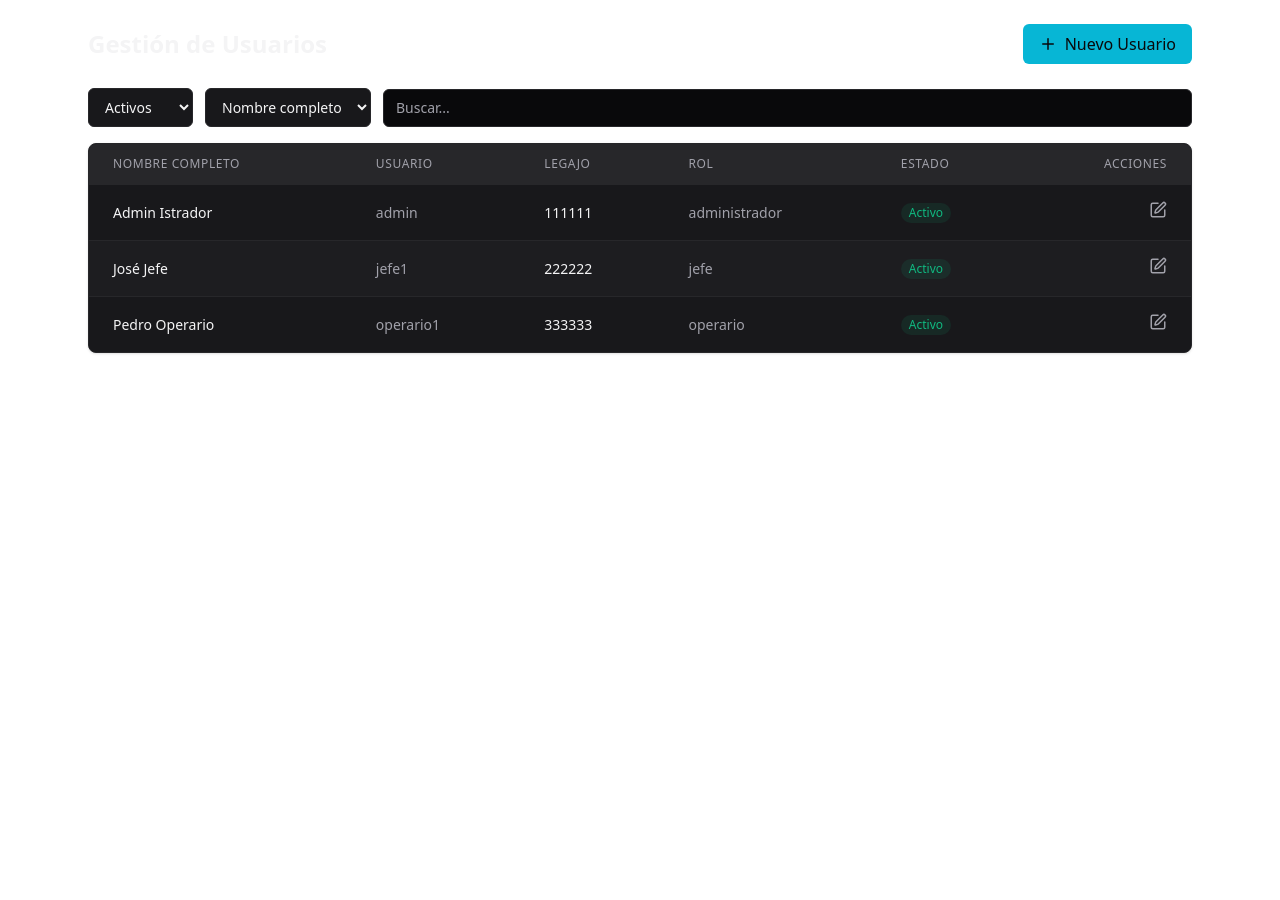
Scenario: UsuariosPage › "Eliminar Usuario" button is in modal footer for active usuario; NOT present in table row
This screenshot has width=1280, height=900.
expect the text "Admin Istrador" is shown: met, box [89,184,352,240]
expect the button "eliminar" is not shown: met
// Open modal for an active user
Click the button titled "Editar" in the row of "Admin Istrador" at (1158, 210), box [1149,201,1167,219]
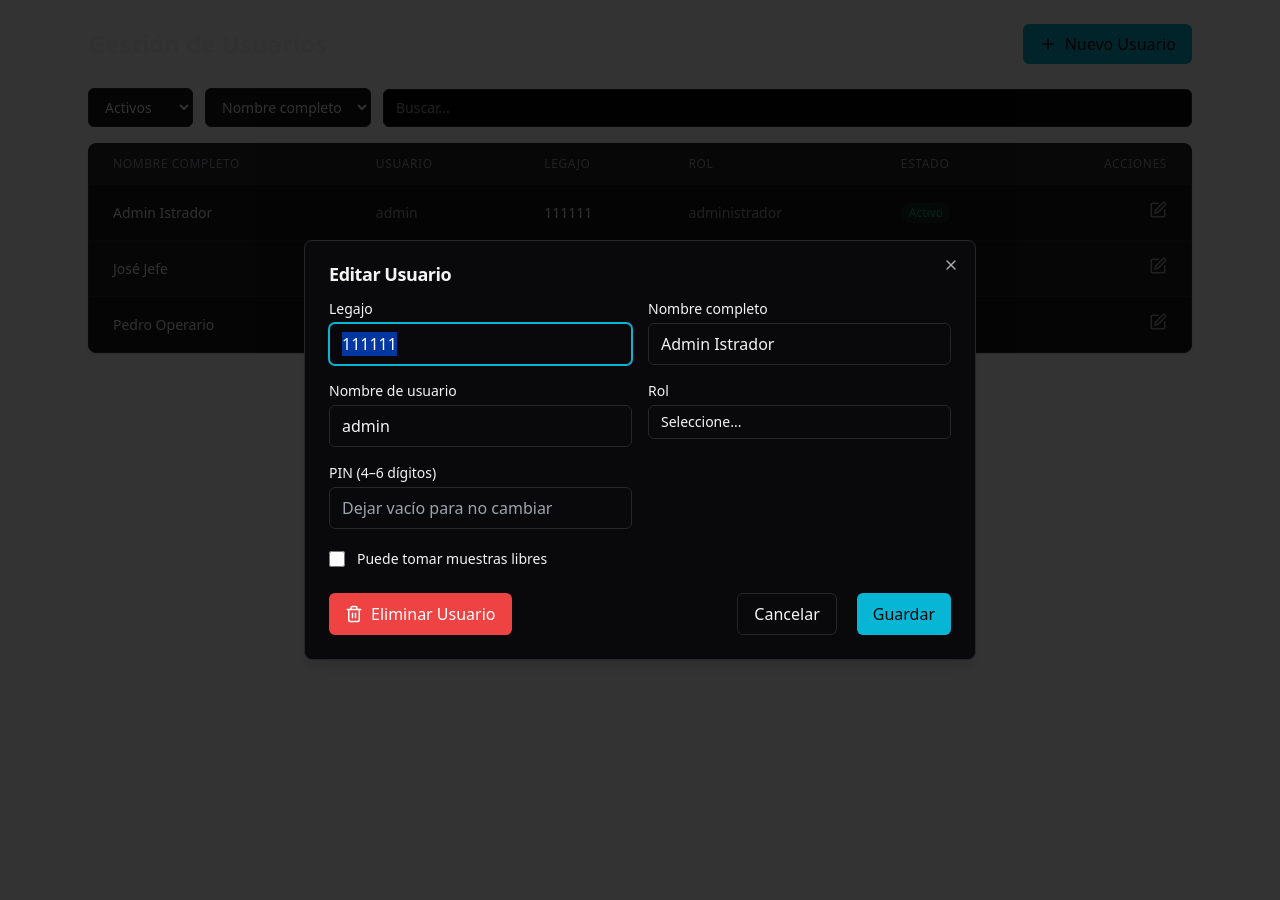
expect the heading "Editar Usuario" is shown: met, box [329,262,451,286]
expect the button "Eliminar Usuario" is shown: met, box [329,593,512,635]
